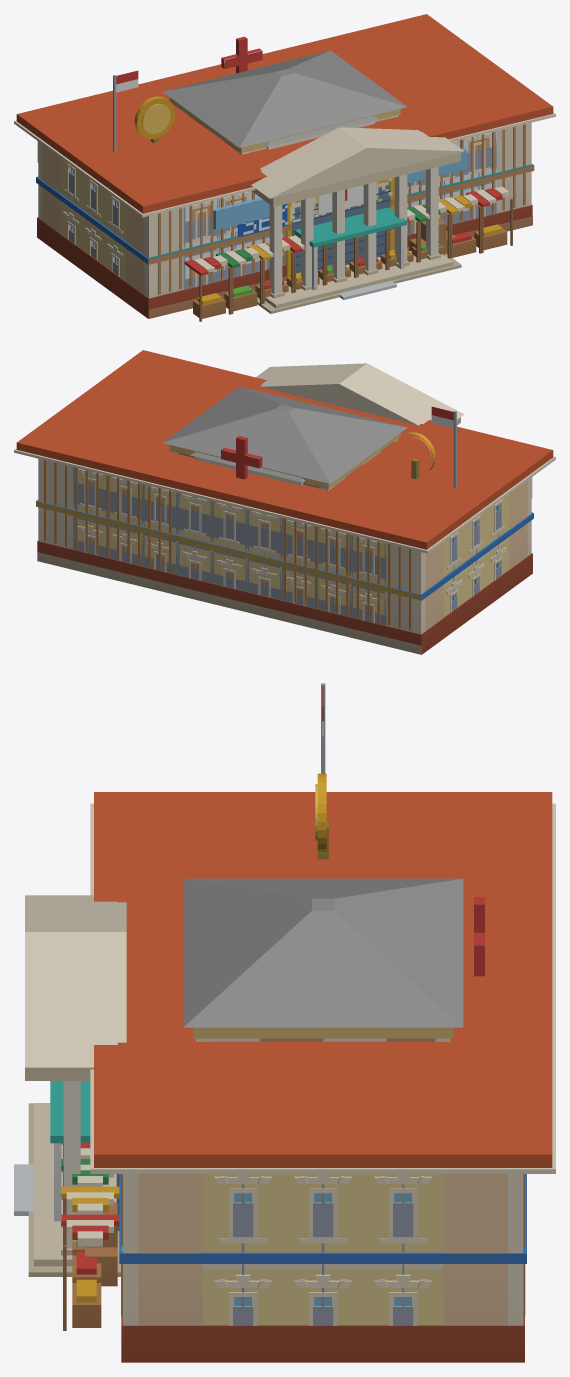
File: downtown.glb
The picture shows the model from 3 angles, top to bottom: view 1: azimuth 30°, elevation 25°; view 2: azimuth 150°, elevation 25°; view 3: azimuth 270°, elevation 25°; orthographic projection. The views are drawn at different scales.
Parts seen in each view (by area): view 1: dt_pasar@1, dt_bank, dt_barongsai@1, dt_pasar, dt_gudang@1, dt_gudang, dt_bank@1, dt_hospital, dt_school@1, dt_school, dt_hospital@1, dt_ruko_a; view 2: dt_pasar@1, dt_bank, dt_school@1, dt_barongsai@1, dt_gudang, dt_gudang@1, dt_school, dt_pasar, dt_bank@1, dt_hospital, dt_hospital@1, dt_ruko_a; view 3: dt_pasar@1, dt_barongsai@1, dt_school@1, dt_pasar, dt_gudang, dt_bank, dt_bank@1, dt_hospital, dt_school, dt_hospital@1, dt_gudang@1.
Part boxes in pixels (<box>): dt_pasar@1: <box>14,14,555,321</box>; dt_bank: <box>69,97,524,313</box>; dt_barongsai@1: <box>162,50,407,154</box>; dt_pasar: <box>14,112,555,318</box>; dt_gudang@1: <box>37,137,534,318</box>; dt_gudang: <box>37,124,532,318</box>; dt_bank@1: <box>93,96,461,313</box>; dt_hospital: <box>63,39,532,298</box>; dt_school@1: <box>36,70,533,318</box>; dt_school: <box>36,71,533,287</box>; dt_hospital@1: <box>148,36,532,299</box>; dt_ruko_a: <box>267,116,379,149</box>; dt_pasar@1: <box>14,350,555,633</box>; dt_bank: <box>36,363,500,654</box>; dt_school@1: <box>73,406,533,654</box>; dt_barongsai@1: <box>162,386,407,490</box>; dt_gudang: <box>37,460,532,654</box>; dt_gudang@1: <box>37,480,532,645</box>; dt_school: <box>36,458,533,634</box>; dt_pasar: <box>14,448,555,630</box>; dt_bank@1: <box>256,363,498,599</box>; dt_hospital: <box>78,469,532,602</box>; dt_hospital@1: <box>157,436,370,558</box>; dt_ruko_a: <box>190,452,302,485</box>; dt_pasar@1: <box>61,792,555,1330</box>; dt_barongsai@1: <box>183,878,463,1041</box>; dt_school@1: <box>119,683,526,1325</box>; dt_pasar: <box>61,803,555,1327</box>; dt_gudang: <box>85,1174,525,1362</box>; dt_bank: <box>25,774,413,1325</box>; dt_bank@1: <box>25,773,411,1305</box>; dt_hospital: <box>14,1081,431,1287</box>; dt_school: <box>103,685,526,1292</box>; dt_hospital@1: <box>14,897,484,1287</box>; dt_gudang@1: <box>85,1174,524,1326</box>.
Size of the model in its own units: 23.8 by 10.86 by 14.9.
